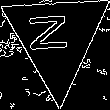N_E: (33, 18, 80, 60)
